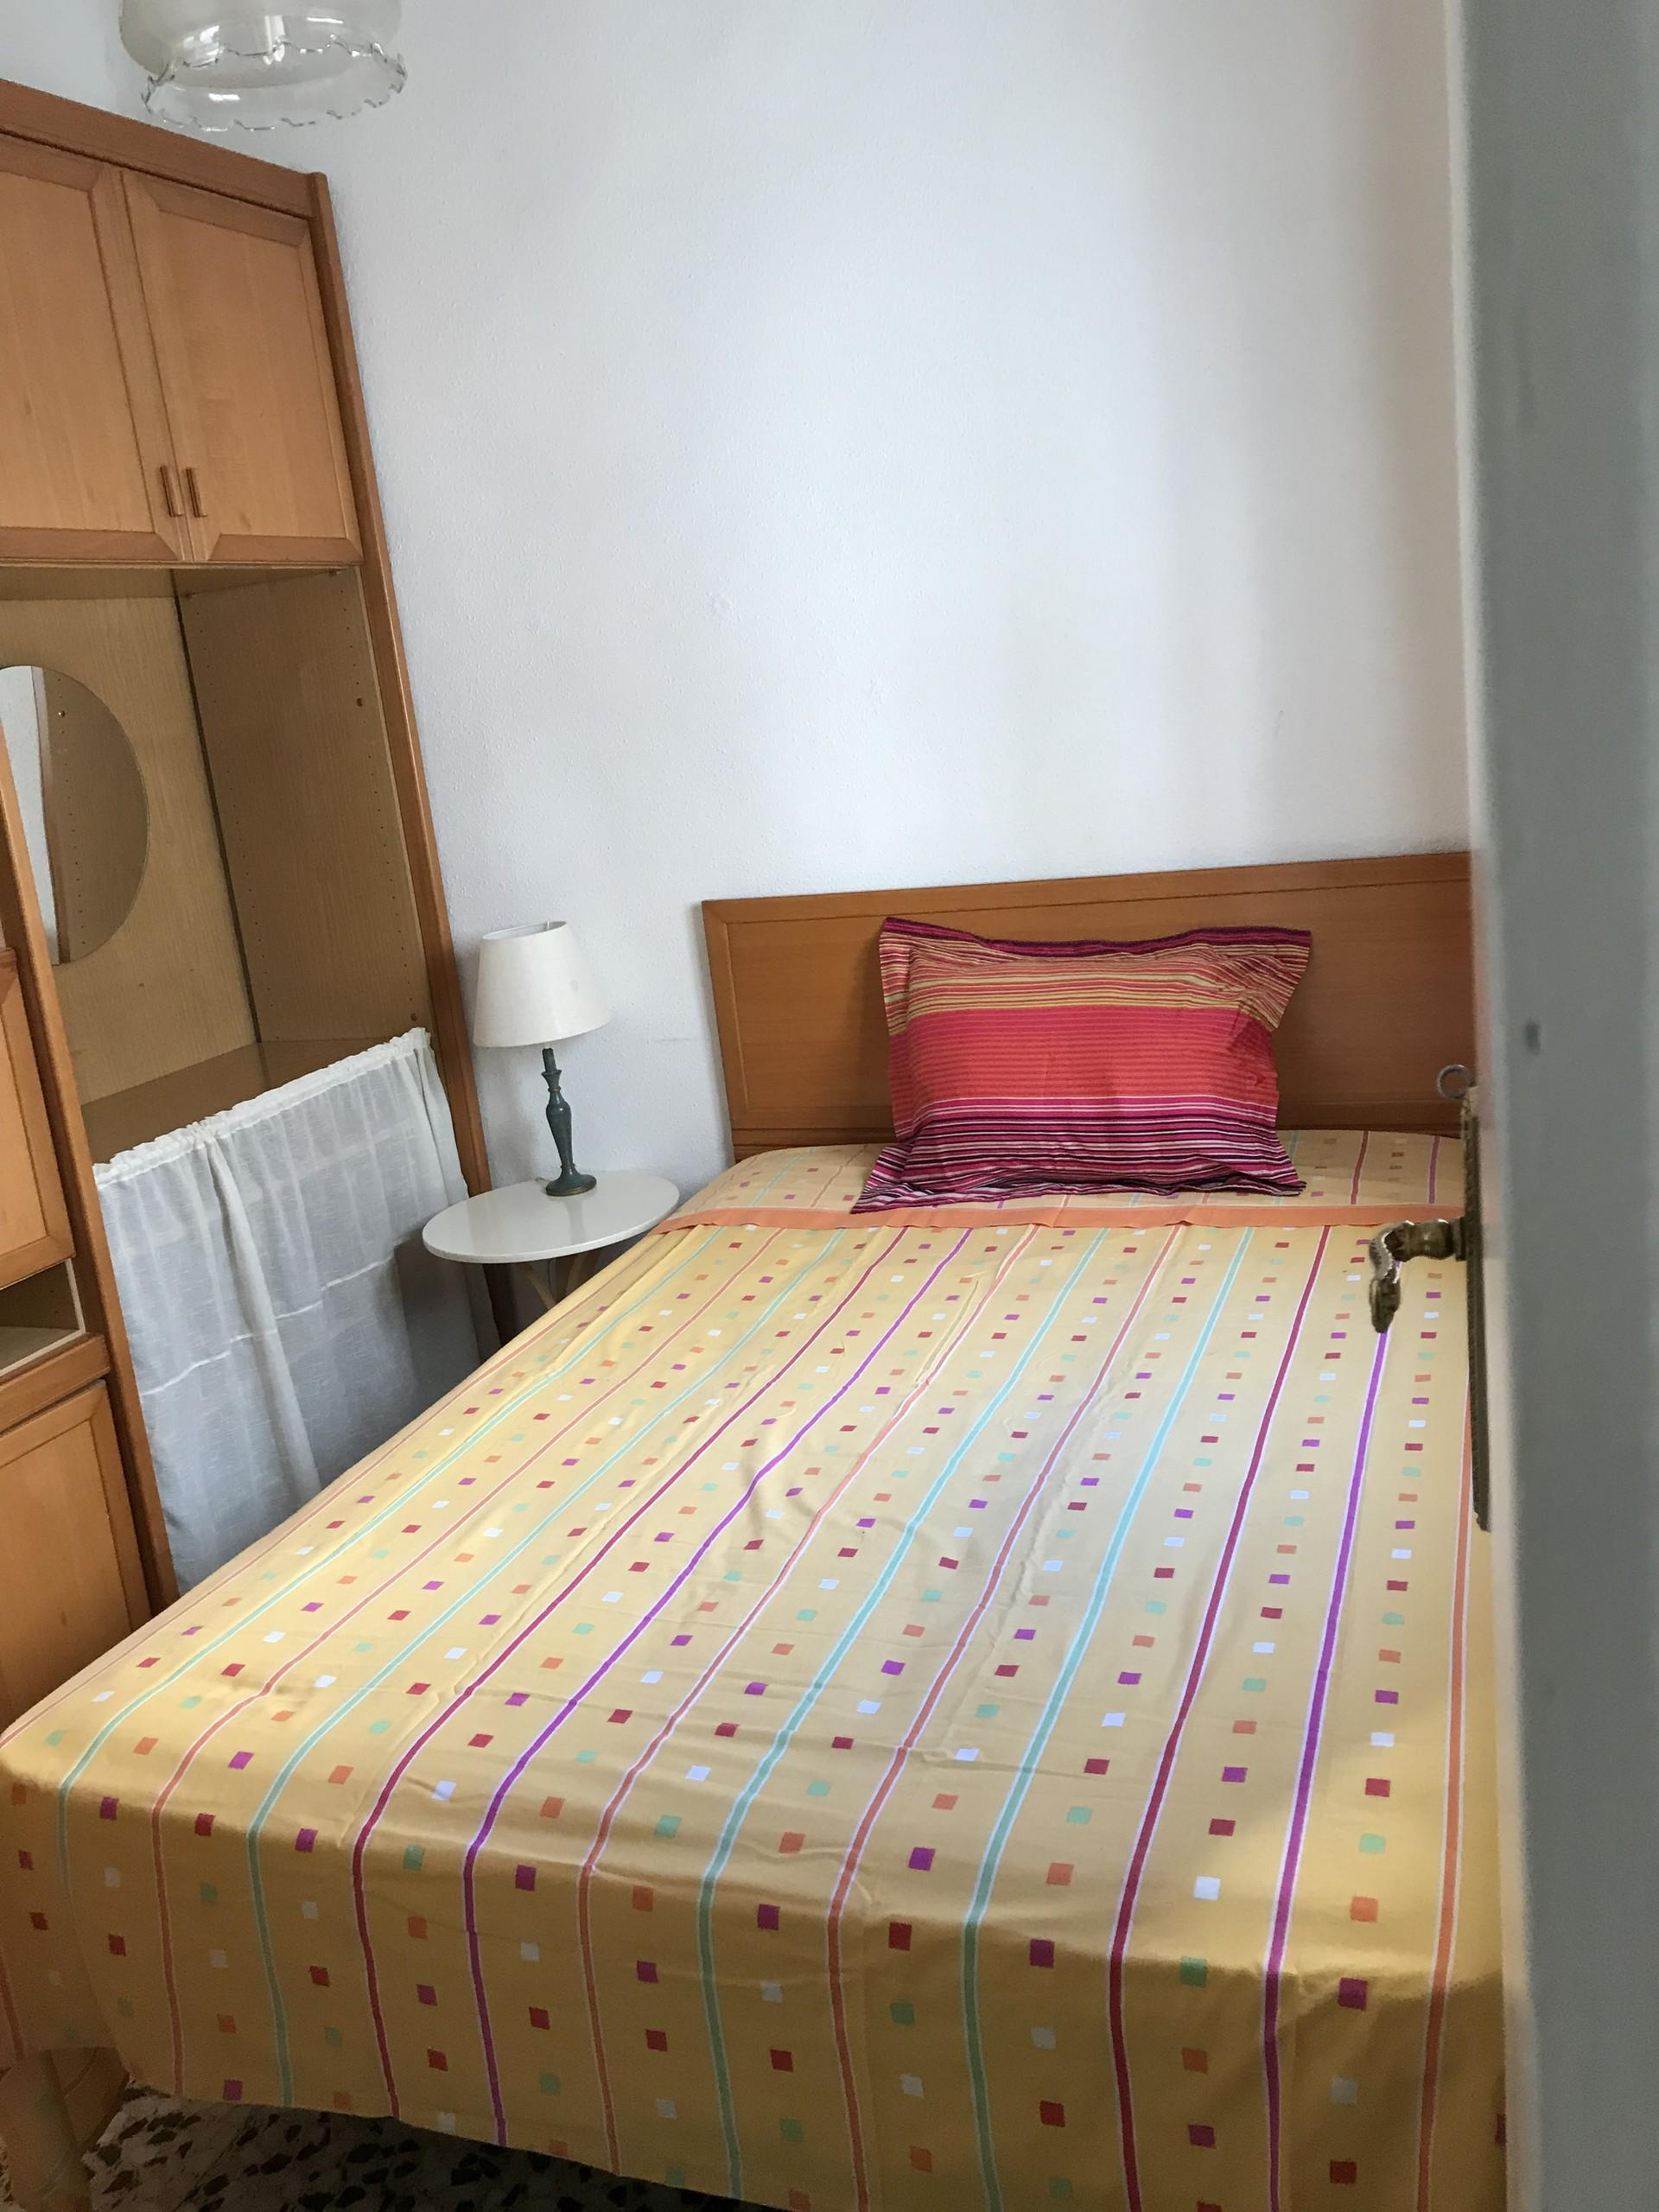bed: (505, 843, 1612, 2142)
